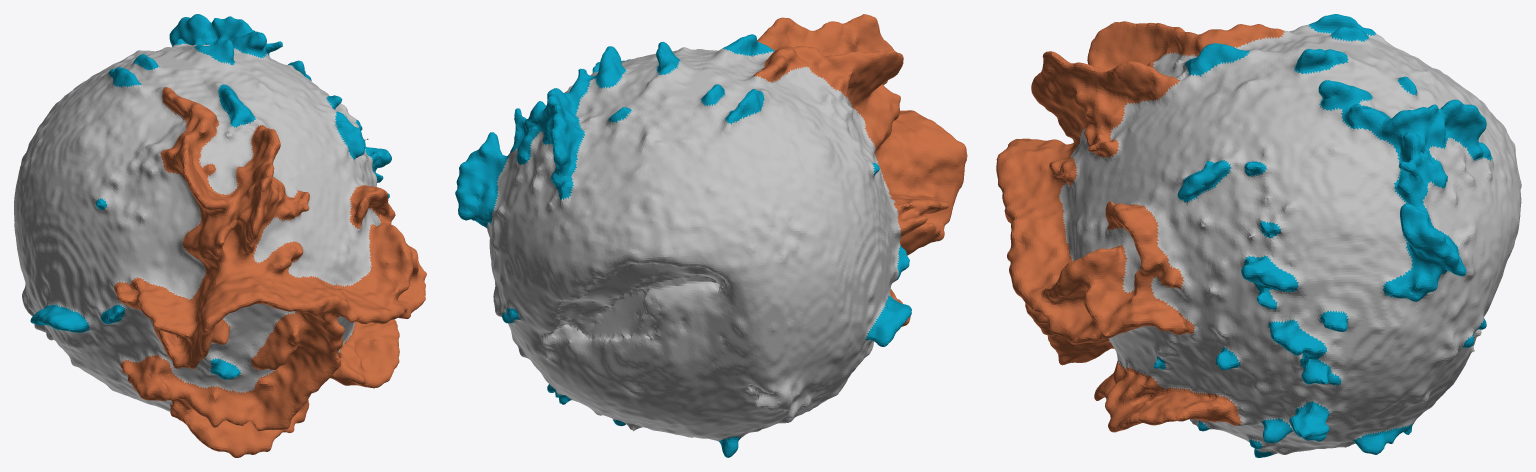
The picture shows the model from 3 angles, left to right: view 1: azimuth 30°, elevation 25°; view 2: azimuth 150°, elevation 25°; view 3: azimuth 270°, elevation 25°; orthographic projection. The views are drawn at different scales.
Bounding box in the file's own units: 149 × 137 × 165.
